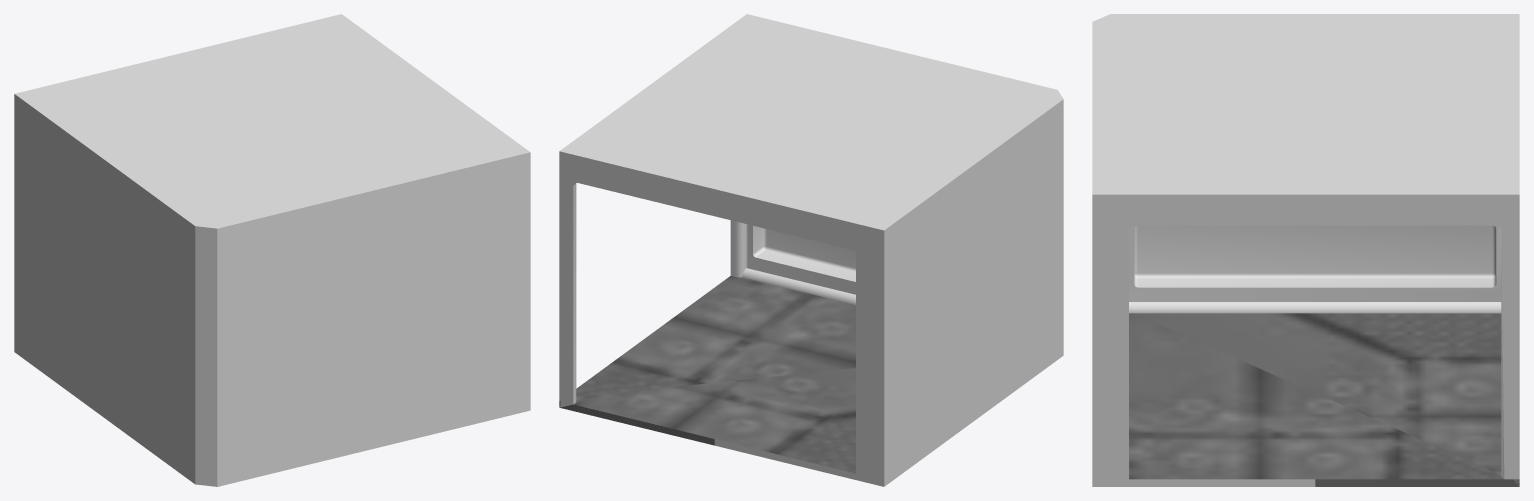
File: chodba_L.fbx
3 renders of one model, left to right at view 1: azimuth 30°, elevation 25°; view 2: azimuth 150°, elevation 25°; view 3: azimuth 270°, elevation 25°, orthographic. The views are drawn at different scales.
Parts seen in each view (by area): view 1: Cube.034; view 2: Cube.034; view 3: Cube.034.
Part boxes in pixels (bbox=[...]): Cube.034: bbox=[14, 14, 530, 486]; Cube.034: bbox=[559, 14, 1063, 486]; Cube.034: bbox=[1092, 14, 1519, 486].
Bounding box in the file's own units: 418 × 315 × 418.
